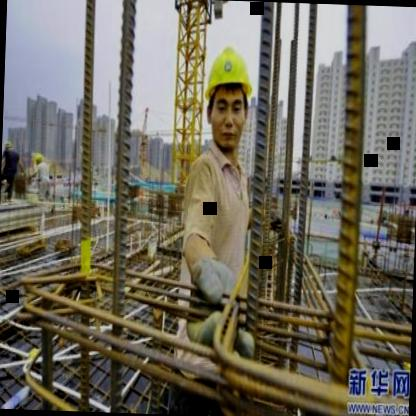helmet: (198, 32, 260, 158)
